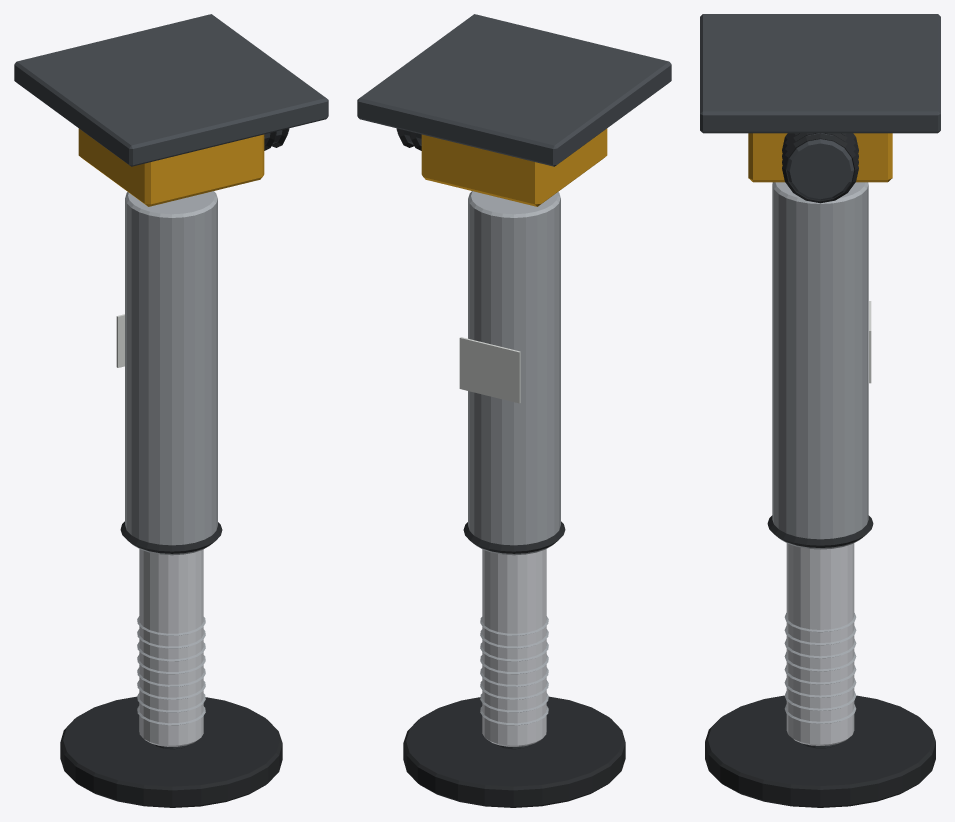
The model's file is stabiliser_jack.glb.
3 views of the same model, side by side, from view 1: azimuth 30°, elevation 25°; view 2: azimuth 150°, elevation 25°; view 3: azimuth 270°, elevation 25° (orthographic). The views are drawn at different scales.
Visible parts, largest first — view 1: base, foot, leg; view 2: base, foot, leg; view 3: base, foot, leg.
Boxes of the visible parts, left/top/right/bottom form: base: left=14, top=14, right=328, bottom=555; foot: left=60, top=696, right=282, bottom=807; leg: left=137, top=549, right=205, bottom=746; base: left=357, top=14, right=671, bottom=555; foot: left=403, top=696, right=625, bottom=807; leg: left=480, top=549, right=548, bottom=746; base: left=700, top=14, right=940, bottom=549; foot: left=705, top=695, right=935, bottom=807; leg: left=784, top=543, right=856, bottom=745.
Size of the model in its own units: 0.5 by 1.6 by 0.5.
